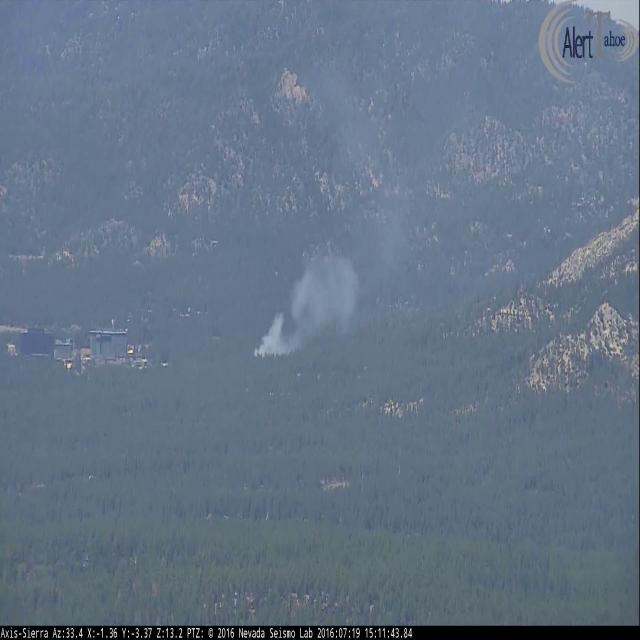smoke: (253, 59, 483, 358)
